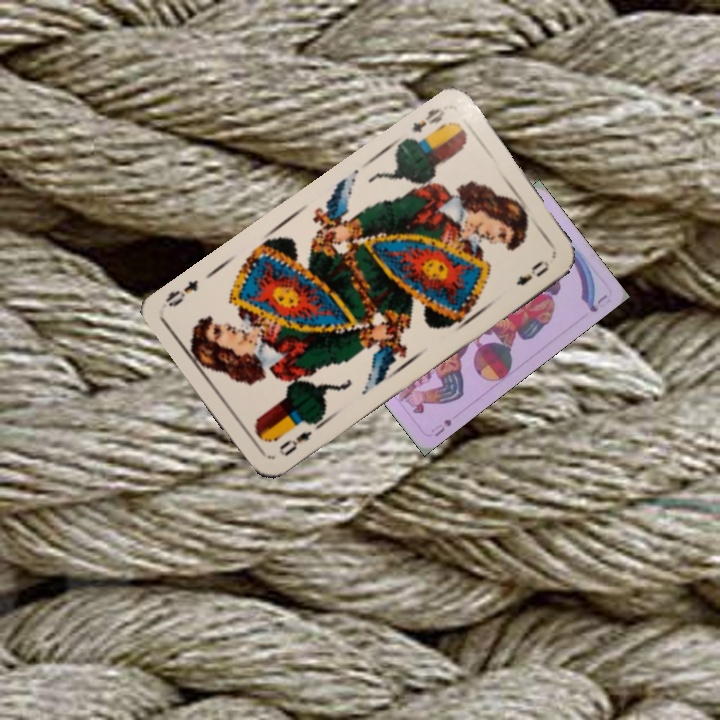EO: (274, 426, 315, 459), (408, 104, 447, 136)
SU: (427, 415, 454, 439)
